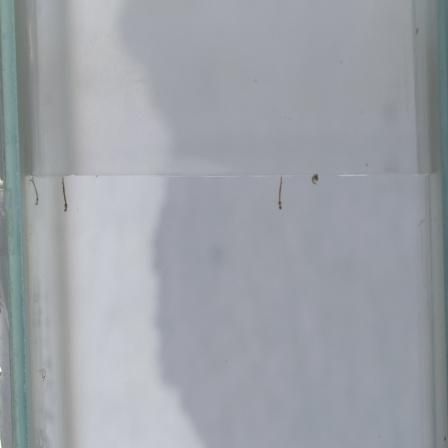Jentik-Nyamuk: (57, 174, 73, 214), (28, 175, 42, 207), (275, 175, 286, 213), (308, 173, 321, 187)
